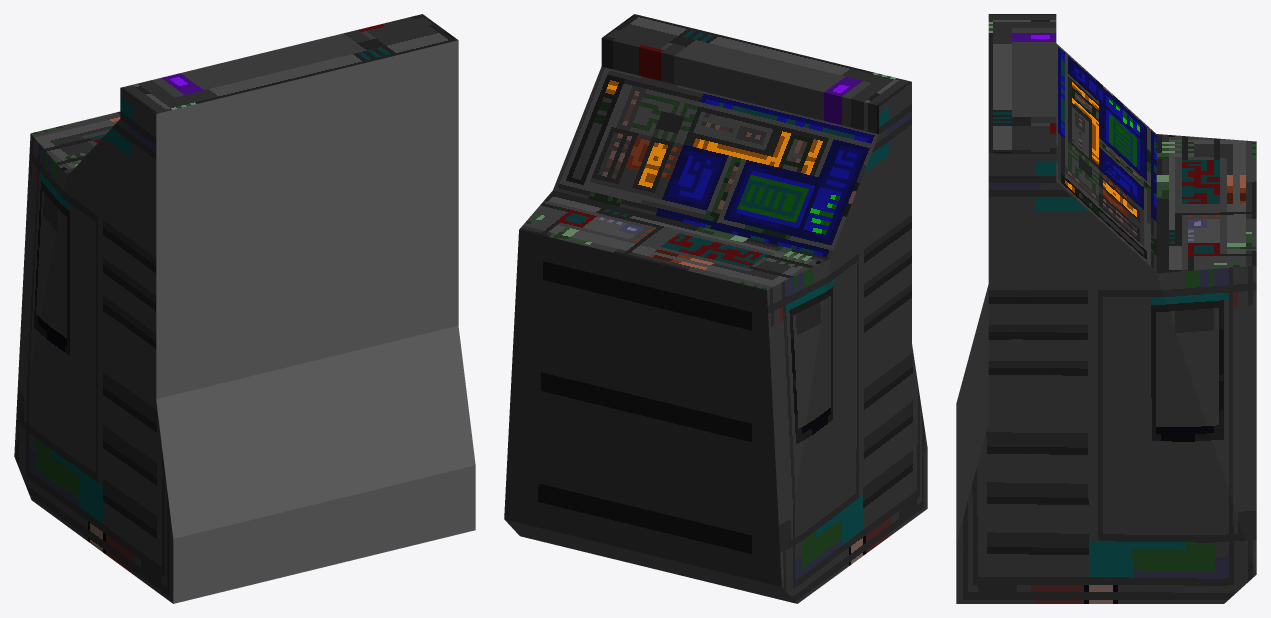
The picture shows the model from 3 angles, left to right: view 1: azimuth 30°, elevation 25°; view 2: azimuth 150°, elevation 25°; view 3: azimuth 270°, elevation 25°; orthographic projection. The views are drawn at different scales.
Visible parts, largest first — view 1: ss3d_18_controlped; view 2: ss3d_18_controlped; view 3: ss3d_18_controlped.
Boxes of the visible parts, x1,y1,x2,y2 form: ss3d_18_controlped: [14, 14, 475, 603]; ss3d_18_controlped: [504, 14, 927, 603]; ss3d_18_controlped: [956, 14, 1256, 603].
Bounding box in the file's own units: 0.875 × 1.32 × 0.7969.
1 material, 1 textured.
